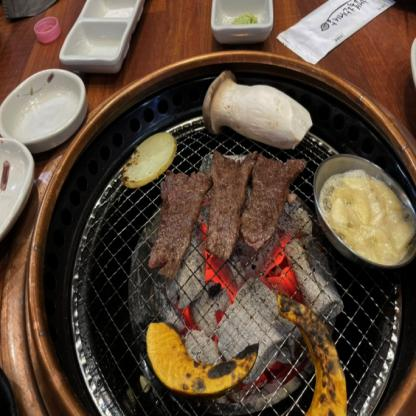Carne: (148, 168, 214, 279), (237, 147, 298, 246), (206, 145, 247, 262)
